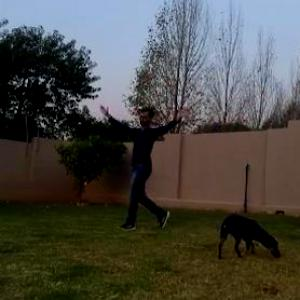takeoff: (86, 101, 202, 228)
